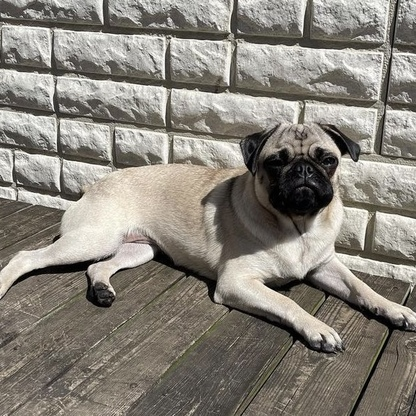Pug: (1, 117, 416, 356)
